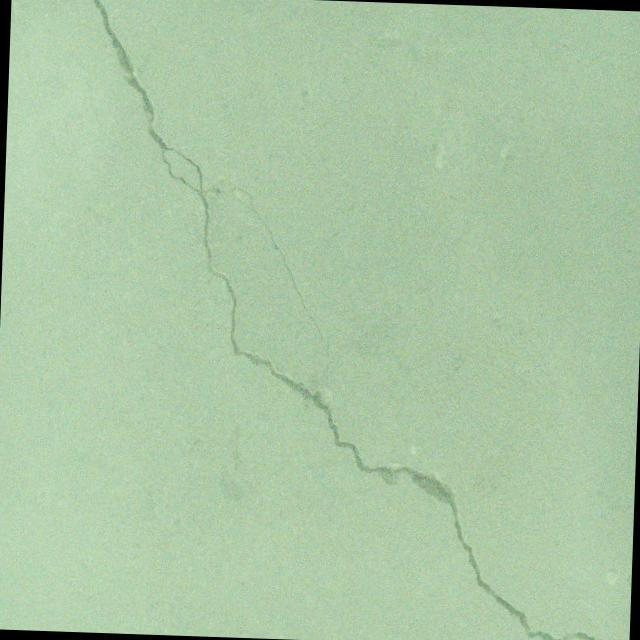crack: (67, 0, 635, 640)
